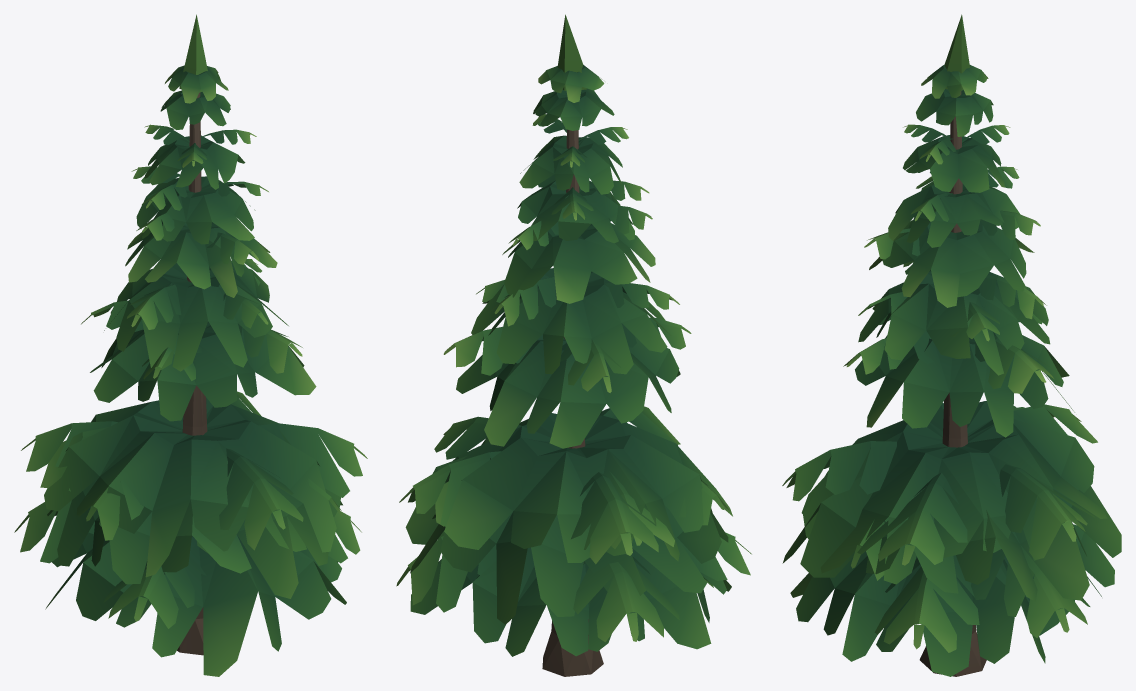
File: spruce_S_normal_std_gapped_s28.glb
3 renders of one model, left to right at view 1: azimuth 30°, elevation 25°; view 2: azimuth 150°, elevation 25°; view 3: azimuth 270°, elevation 25°, orthographic. The views are drawn at different scales.
Visible parts, largest first — view 1: Tree; view 2: Tree; view 3: Tree.
Boxes of the visible parts, left/top/right/bottom form: Tree: left=14, top=14, right=367, bottom=676; Tree: left=396, top=14, right=751, bottom=676; Tree: left=782, top=14, right=1121, bottom=676.
Size of what is drawn, in the model's own units: 1.94 by 3.99 by 1.88.
